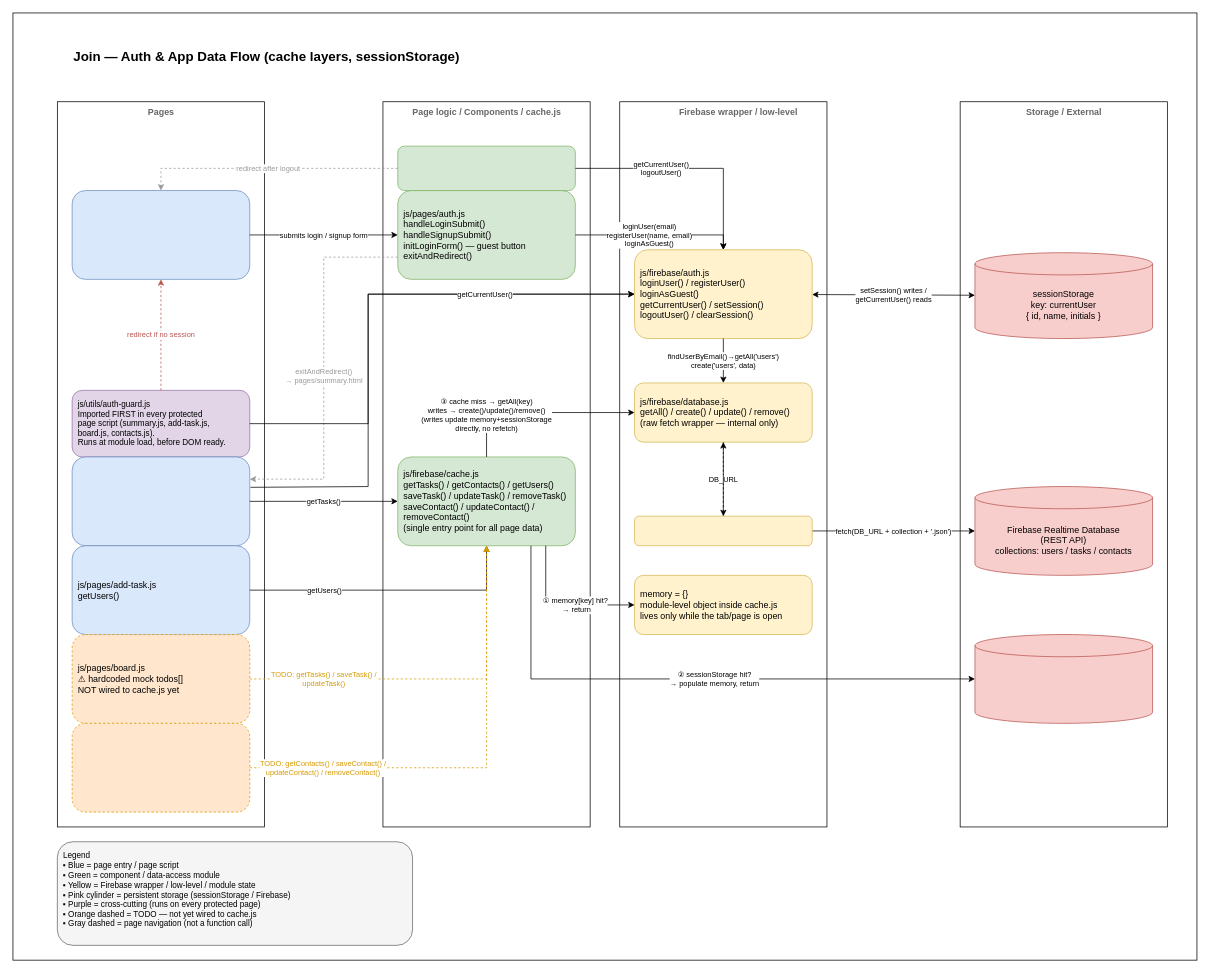
This 1210x973 diagram has some shape labels left out. The centre of each missing label's shape, as x and y in pixels:
index.html (Login / Signup): (160,234)
js/components/navbar.js initNavbar() → getCurrentUser(), logoutUser(): (486,168)
js/firebase/config.js — DB_URL: (723,530)
js/pages/contacts.js ⚠ hardcoded mock contacts[] NOT wired to cache.js yet: (160,767)
js/pages/summary.js getCurrentUser() getTasks(): (160,501)
sessionStorage keys: cache:tasks / cache:contacts / cache:users: (1063,678)
